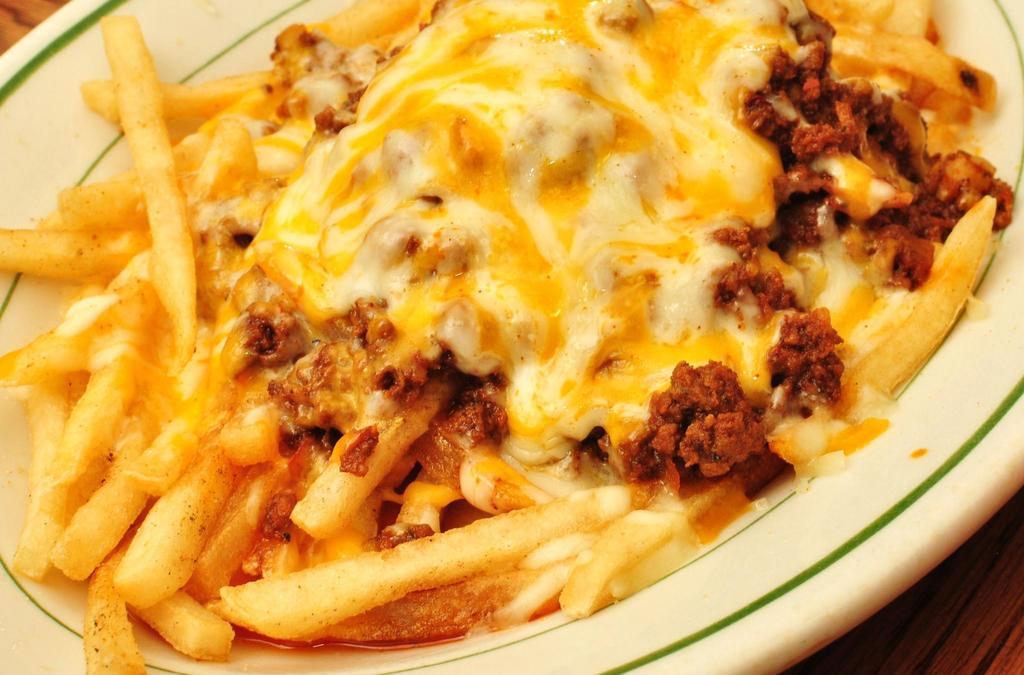French fries: (0, 0, 1000, 553)
